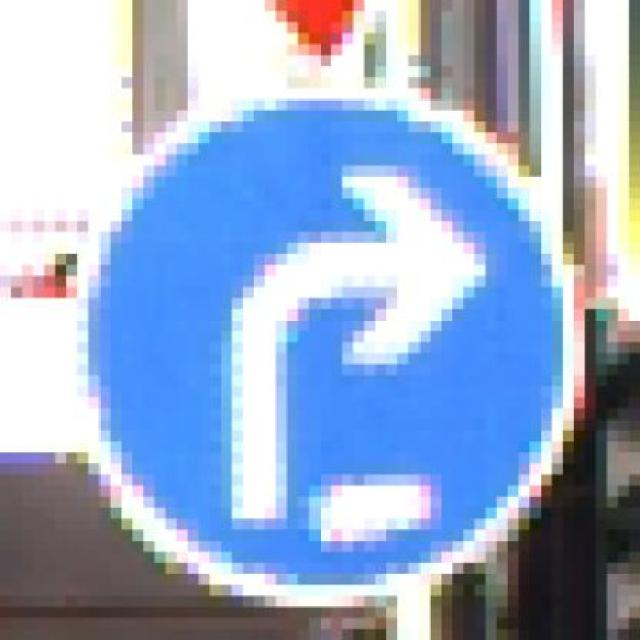Turn right ahead: (66, 77, 608, 618)
